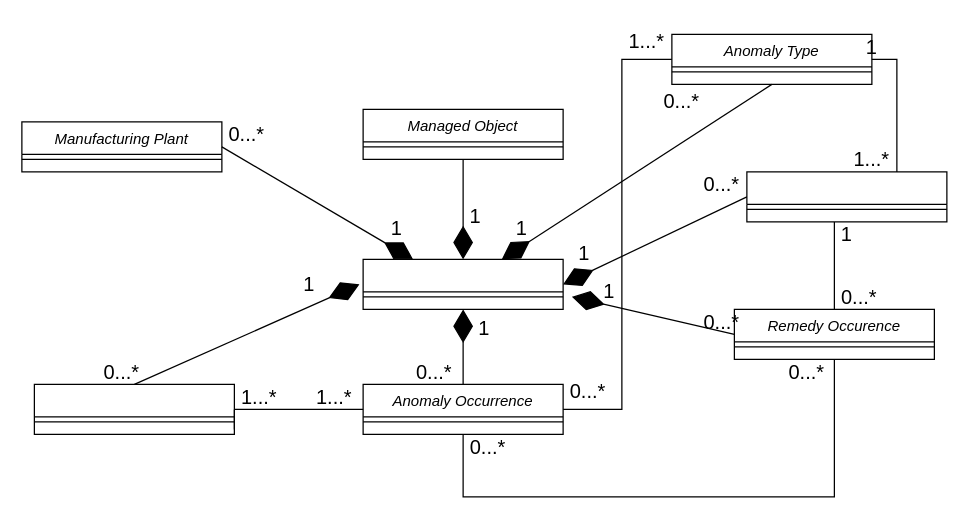
This 969x520 diagram has some shape labels left out. The centre of each missing label's shape, as x and y in pixels:
A.M.Session: point (462, 283)
Device: point (133, 408)
Remedy method type: point (846, 196)
